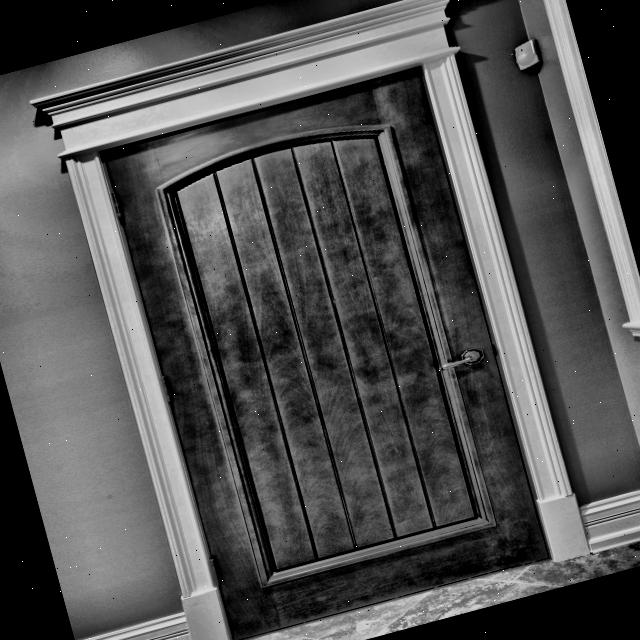door: (66, 24, 627, 640)
